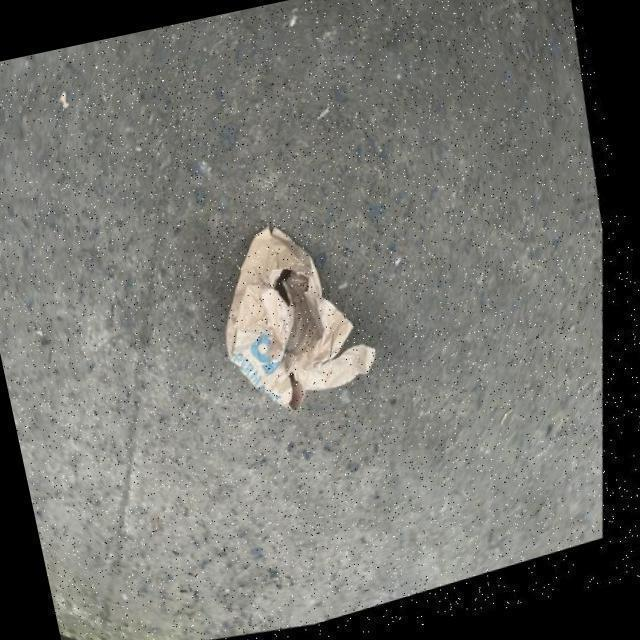Paper_Bag: (196, 196, 427, 442)
